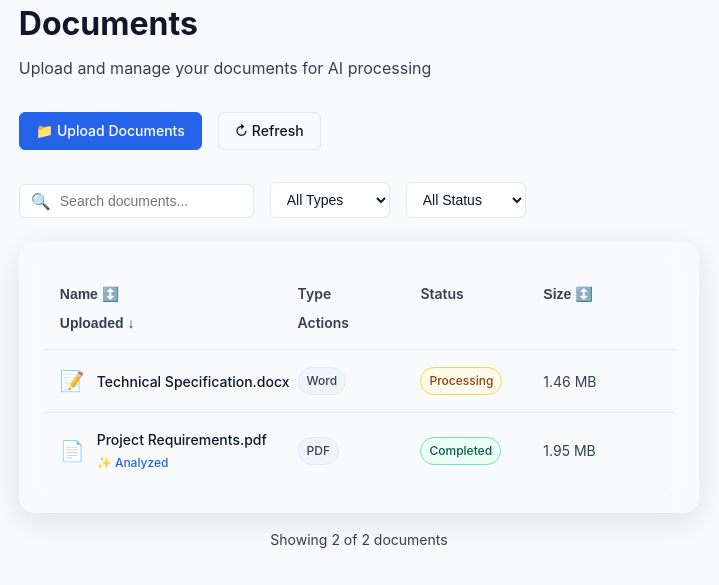
it: Documents Integration › shows upload interface when upload button is clicked
Click the button "📁 Upload Documents". click: (110, 131)
box: [19, 112, 202, 150]
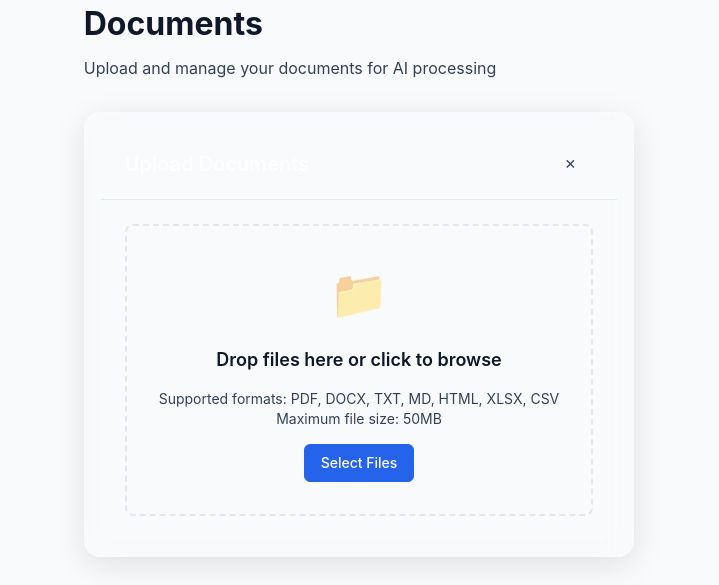
Now the heading "Drop files here or click to browse" is shown, box [216, 346, 502, 373]
